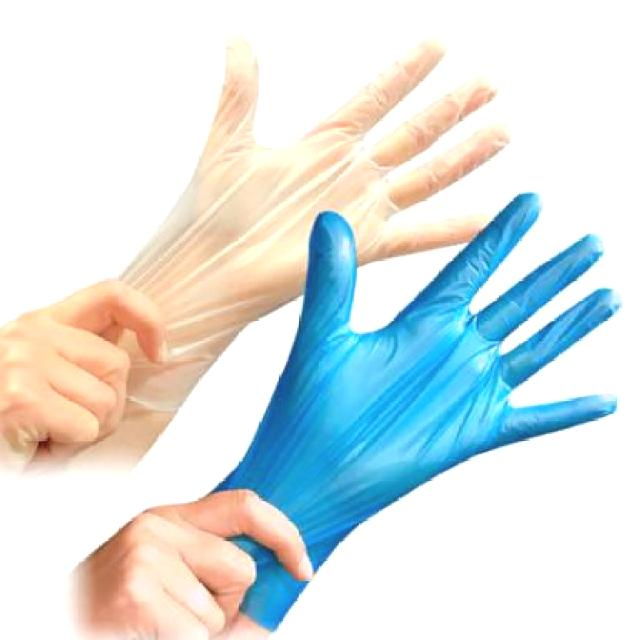glove: (22, 25, 520, 480), (202, 185, 624, 632)
